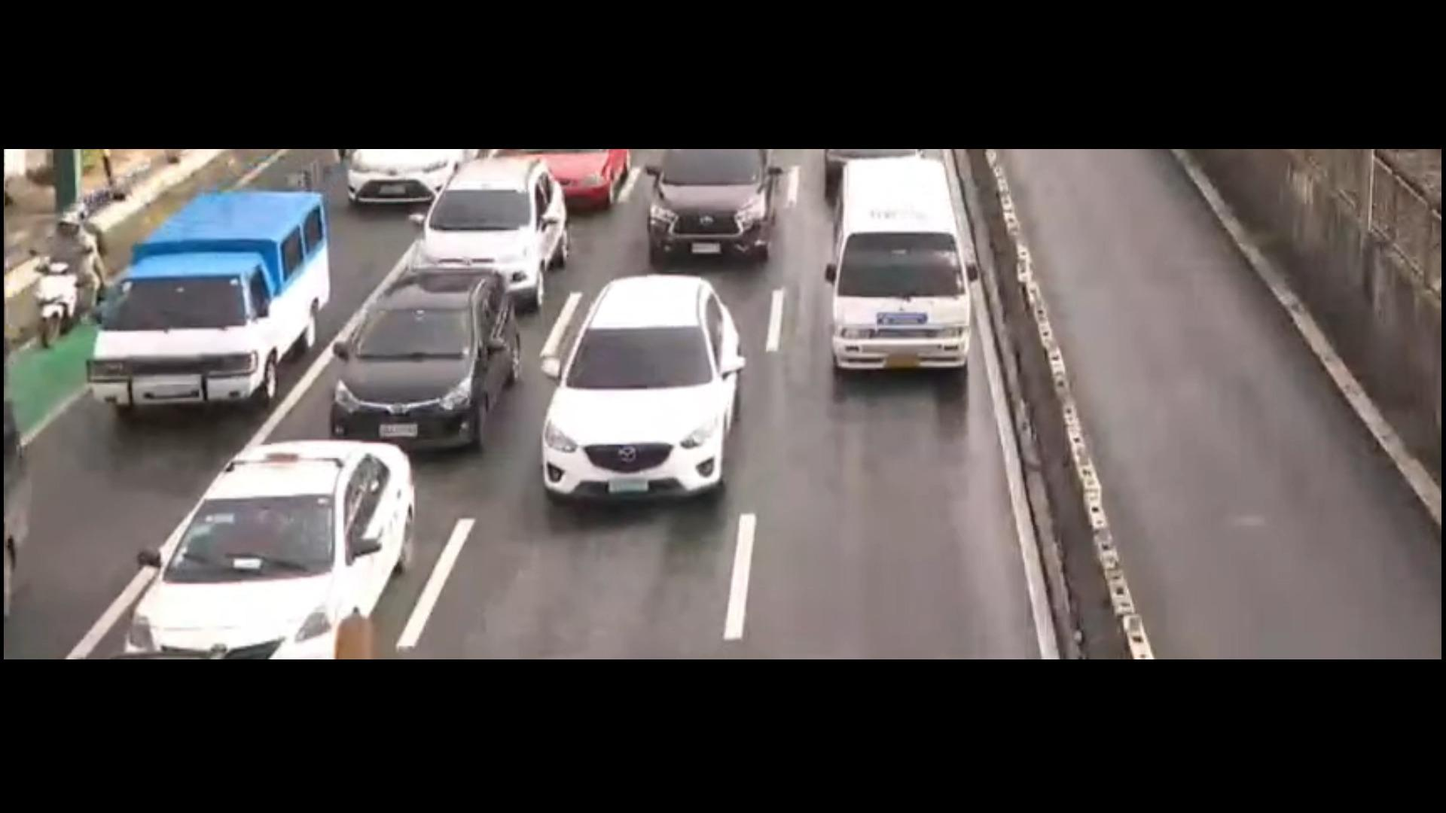Motorcycle: (15, 190, 127, 355)
Multicab: (57, 194, 360, 437)
SUV: (495, 269, 776, 529), (406, 155, 590, 312), (597, 149, 793, 280)
Sedan: (132, 433, 452, 673), (289, 245, 545, 471)
Van: (790, 149, 995, 387)
